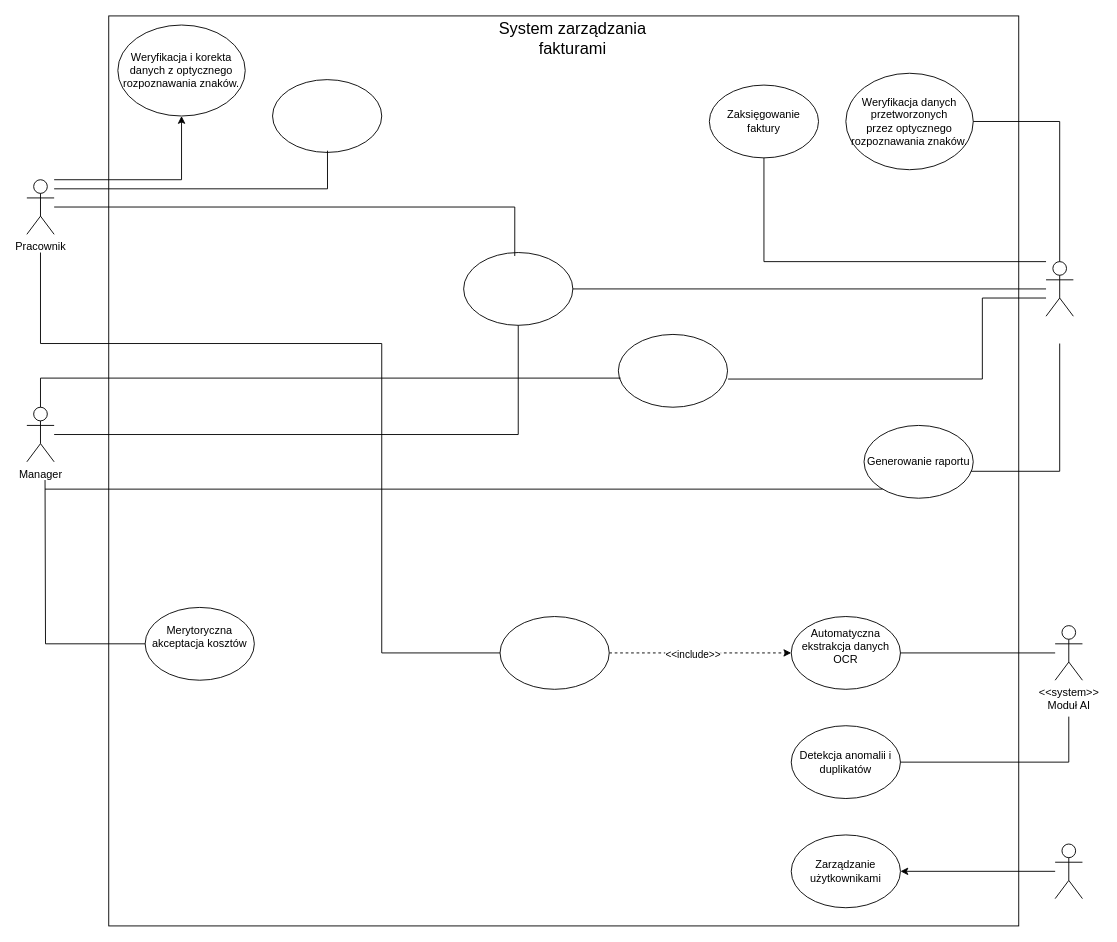
Image size: 1117x942. Some labels were removed from this diagram. Here are the shapes that lost their labels. From the top down, the centre of each, then its label:
At point (327, 115): "Przeglądanie statusu własnych faktur".
At point (518, 288): "Logowanie do systemu".
At point (1059, 288): "Księgowa".
At point (672, 370): "Przegląd historii decyzji".
At point (554, 652): "Wgranie skanu faktury".
At point (1068, 871): "Administrator".
